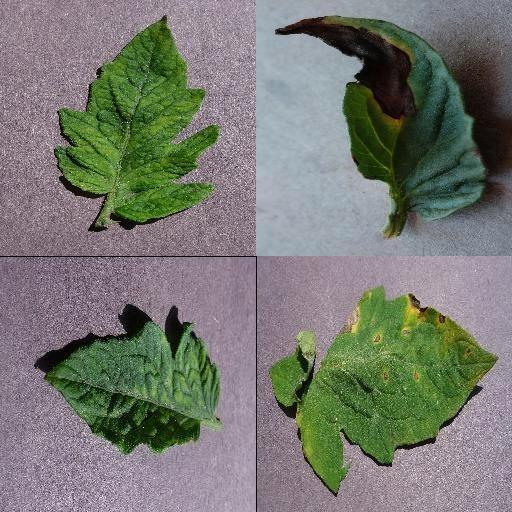Early Blight: (274, 14, 491, 222)
Mosaic Virus: (52, 13, 220, 223), (44, 317, 220, 455)
Septoria: (300, 284, 500, 494)
